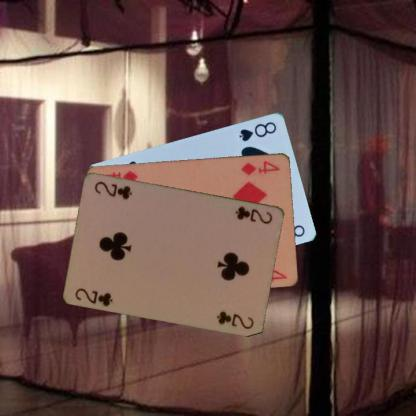2c: (233, 203, 274, 225), (73, 286, 114, 308)
4d: (238, 158, 281, 176)
8s: (236, 118, 278, 143)
